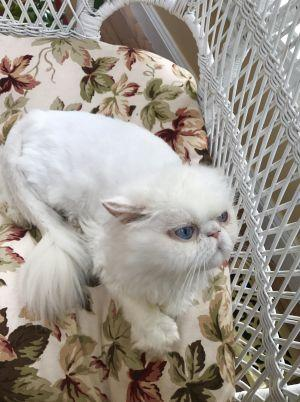persian: (96, 155, 252, 280)
